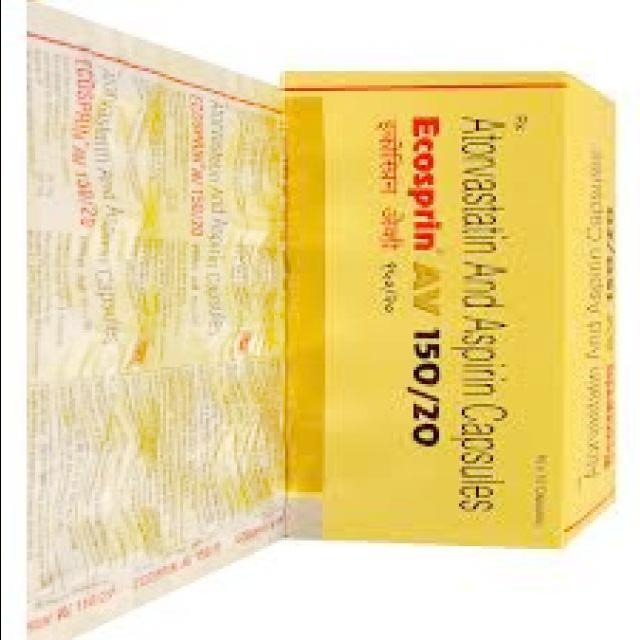authentic: (281, 57, 631, 556), (24, 2, 284, 640)
